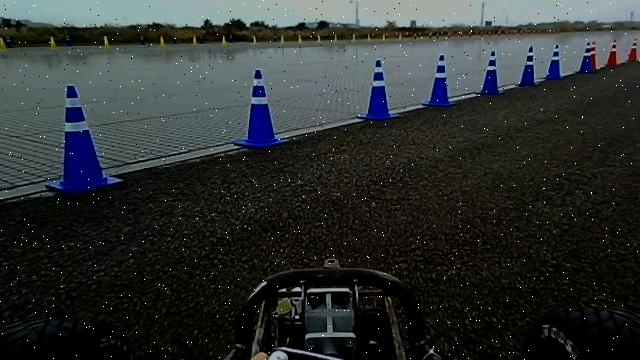blue cone: (45, 84, 124, 195), (233, 69, 290, 149), (356, 59, 399, 121), (422, 54, 457, 107), (476, 50, 505, 95), (517, 46, 540, 86), (545, 43, 564, 80), (576, 41, 594, 74)
